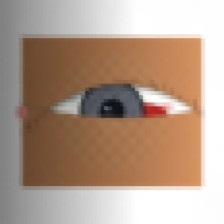hemorrhage_spot: (110, 92, 179, 147)
